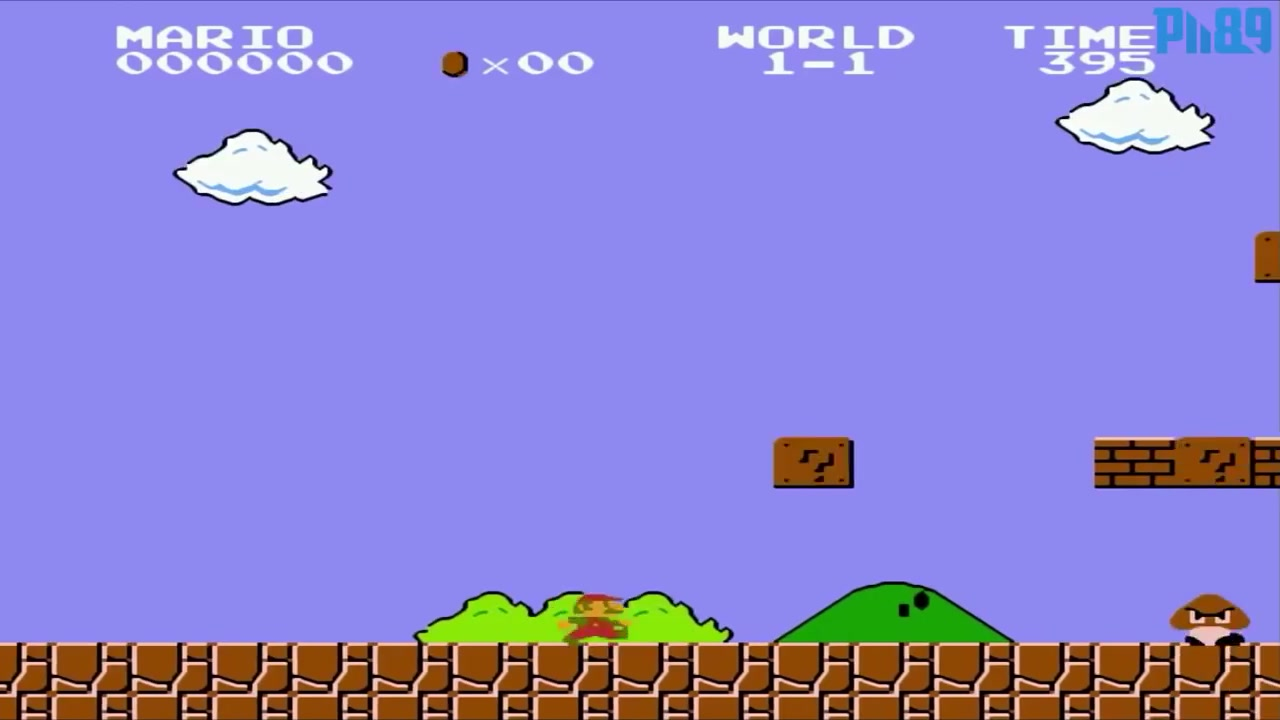mario: (551, 587, 639, 647)
